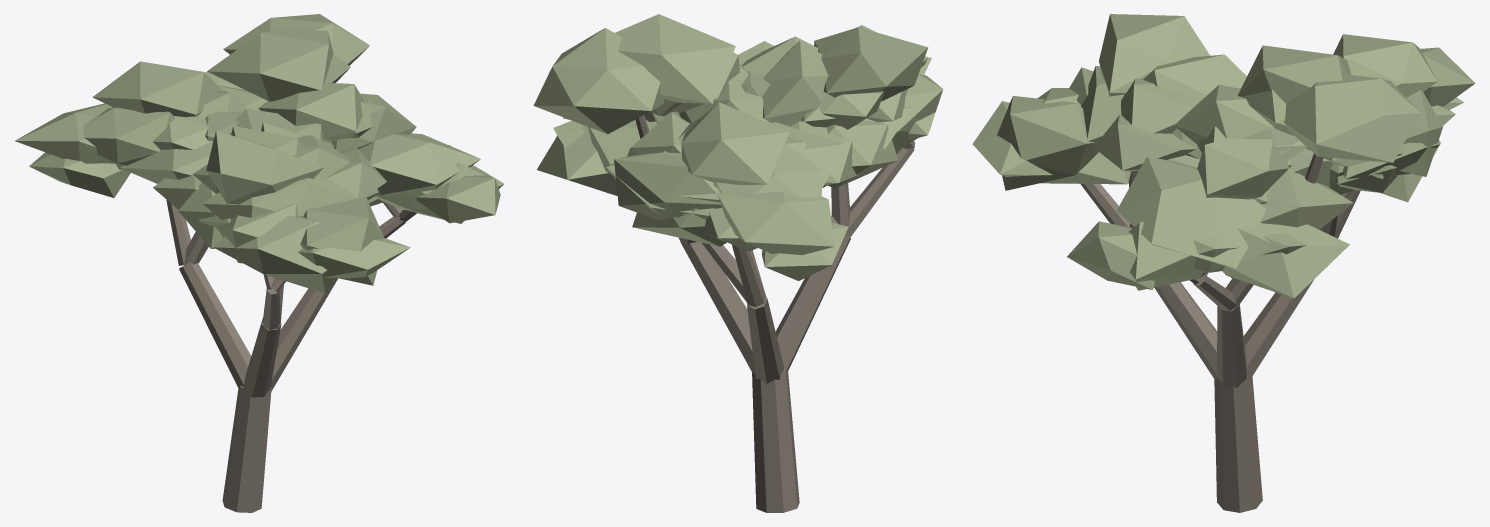
File: tree.glb
3 views of the same model, side by side, from view 1: azimuth 30°, elevation 25°; view 2: azimuth 150°, elevation 25°; view 3: azimuth 270°, elevation 25° (orthographic). The views are drawn at different scales.
Visible parts, largest first — view 1: Tree; view 2: Tree; view 3: Tree.
Part boxes in pixels (left/top/right/bottom): Tree: left=15, top=14, right=503, bottom=512; Tree: left=533, top=14, right=943, bottom=512; Tree: left=972, top=14, right=1475, bottom=512.
Bounding box in the file's own units: 3.44 × 3.97 × 3.72.
